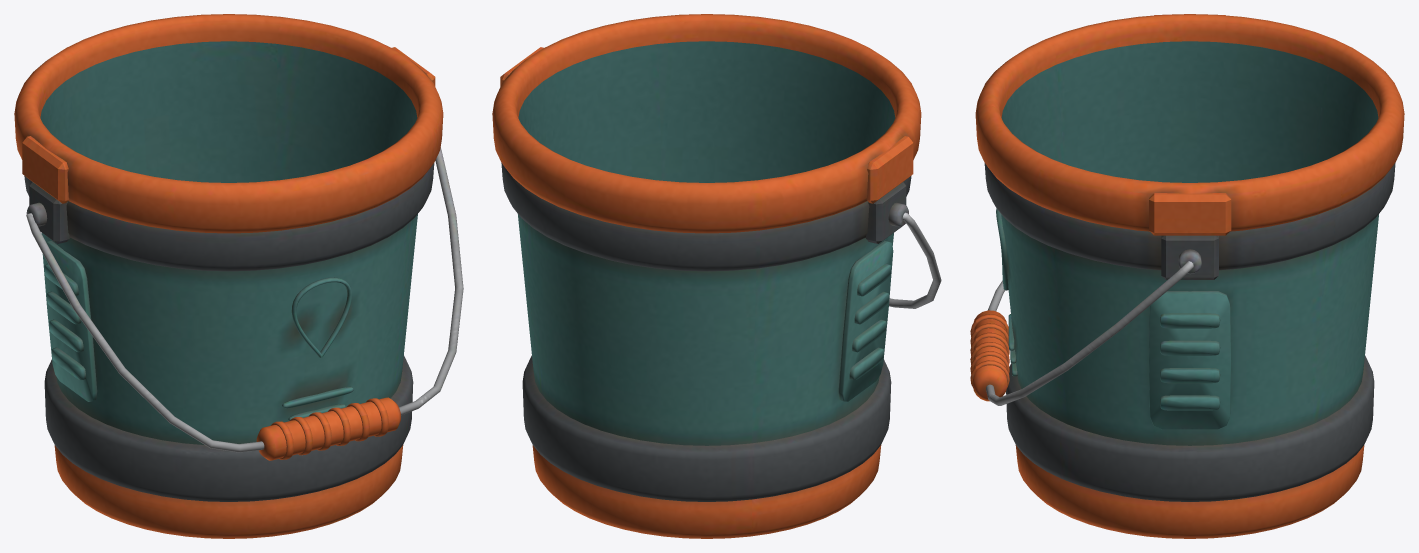
File: water_bucket.glb
The picture shows the model from 3 angles, left to right: view 1: azimuth 30°, elevation 25°; view 2: azimuth 150°, elevation 25°; view 3: azimuth 270°, elevation 25°; orthographic projection.
Parts seen in each view (by area): view 1: water_bucket, water_bucket_handle; view 2: water_bucket, water_bucket_handle; view 3: water_bucket, water_bucket_handle.
Part boxes in pixels (left/top/right/bottom): water_bucket: left=14, top=14, right=443, bottom=538; water_bucket_handle: left=26, top=147, right=463, bottom=460; water_bucket: left=492, top=14, right=921, bottom=538; water_bucket_handle: left=889, top=212, right=941, bottom=308; water_bucket: left=975, top=14, right=1404, bottom=538; water_bucket_handle: left=970, top=261, right=1193, bottom=405.
Size of the model in its own units: 0.3409 by 0.2995 by 0.3167.
1 material, 1 textured.
